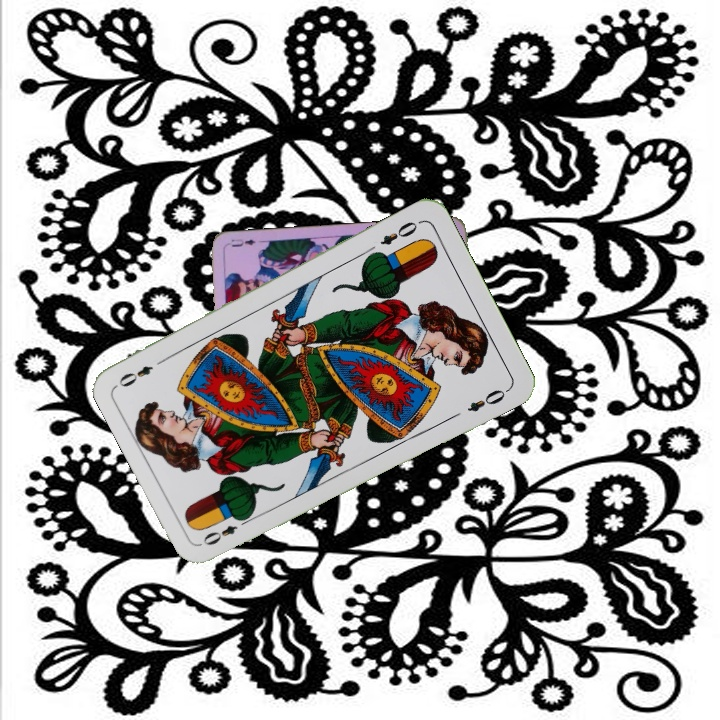EO: (199, 513, 253, 548), (376, 217, 420, 248)
